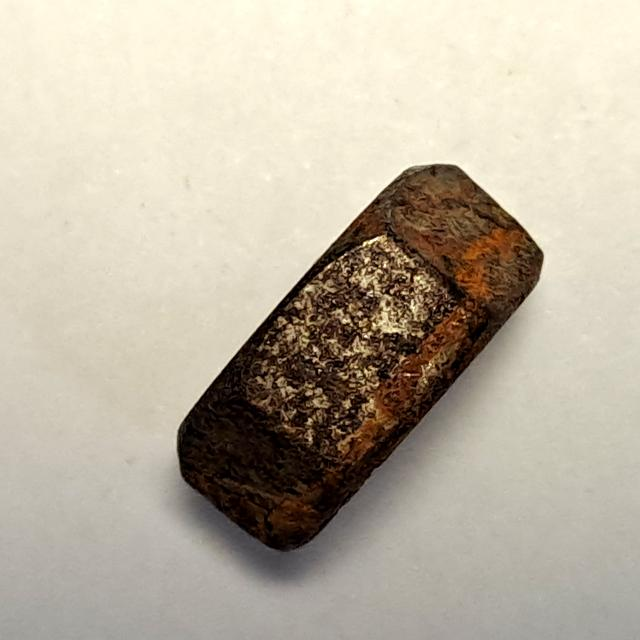Side_Rust: (162, 155, 558, 567)
